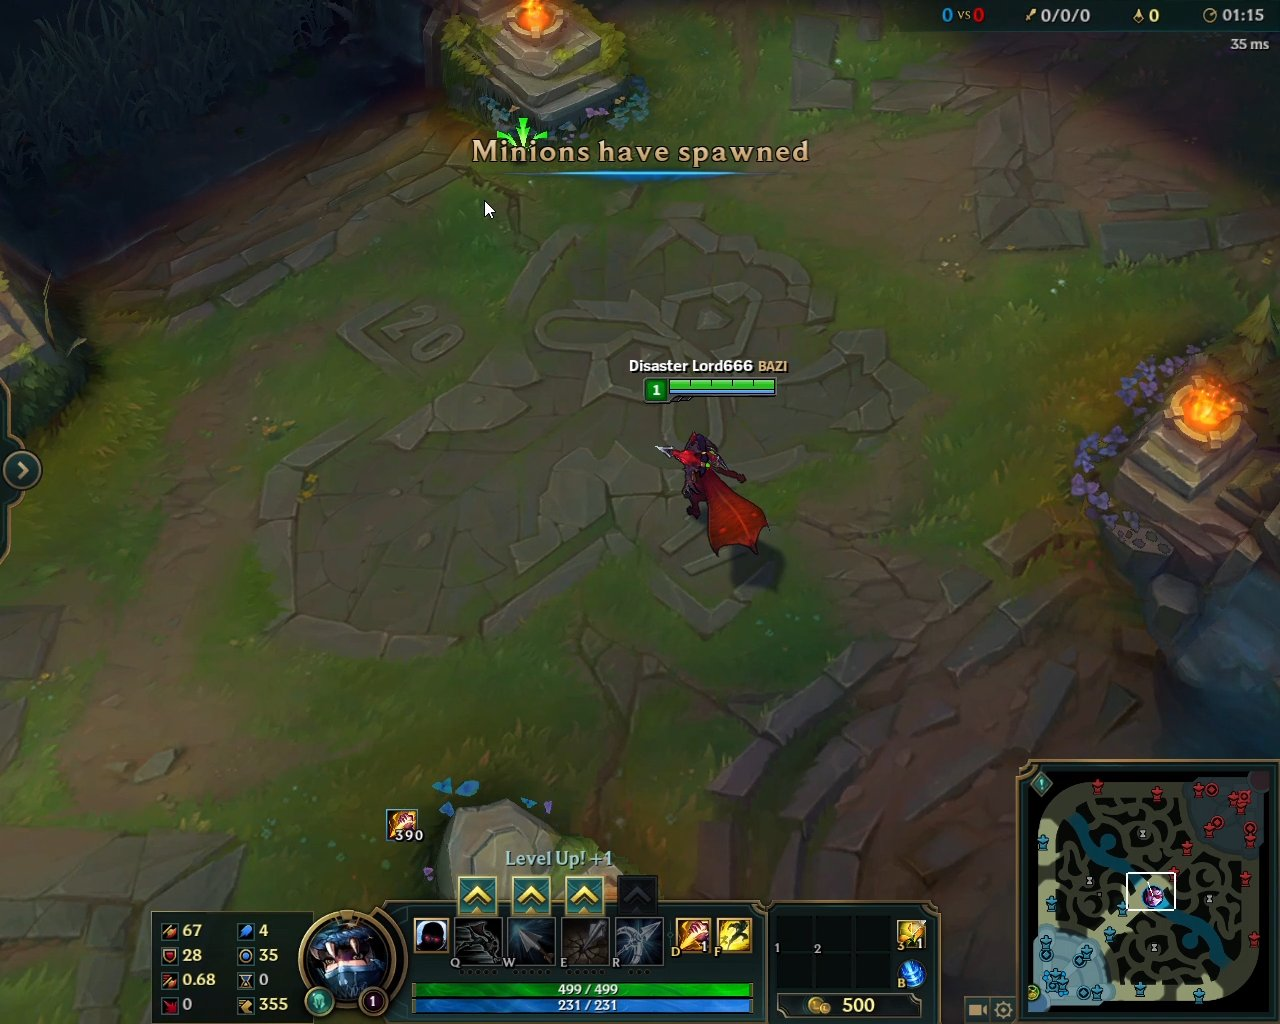Vayne: (647, 429, 774, 564)
